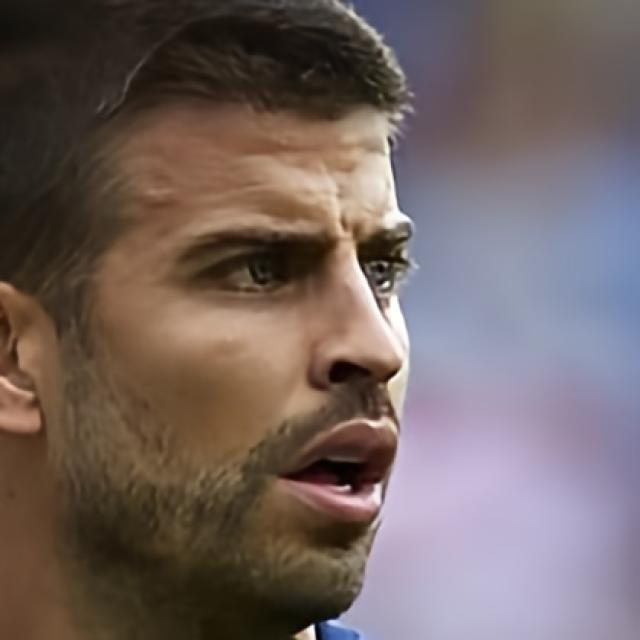anger: (56, 84, 412, 605)
